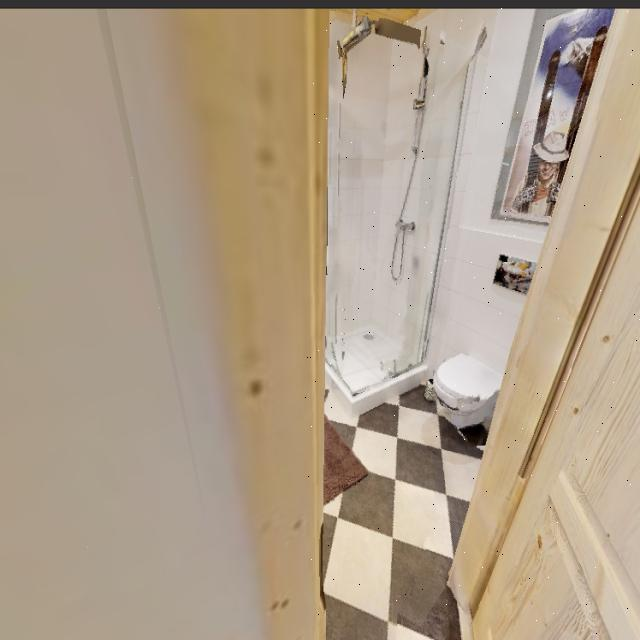door-frame: (303, 6, 640, 640)
shower: (322, 4, 434, 411)
toilet: (423, 330, 505, 440)
